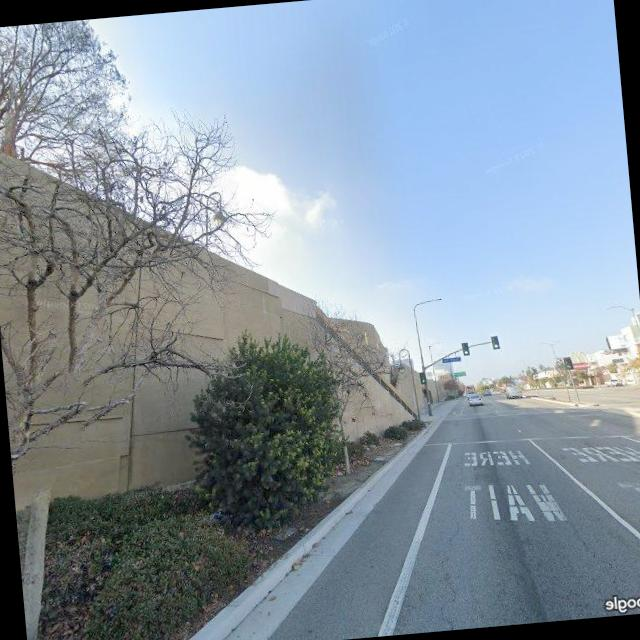pothole: (427, 516, 472, 629)
